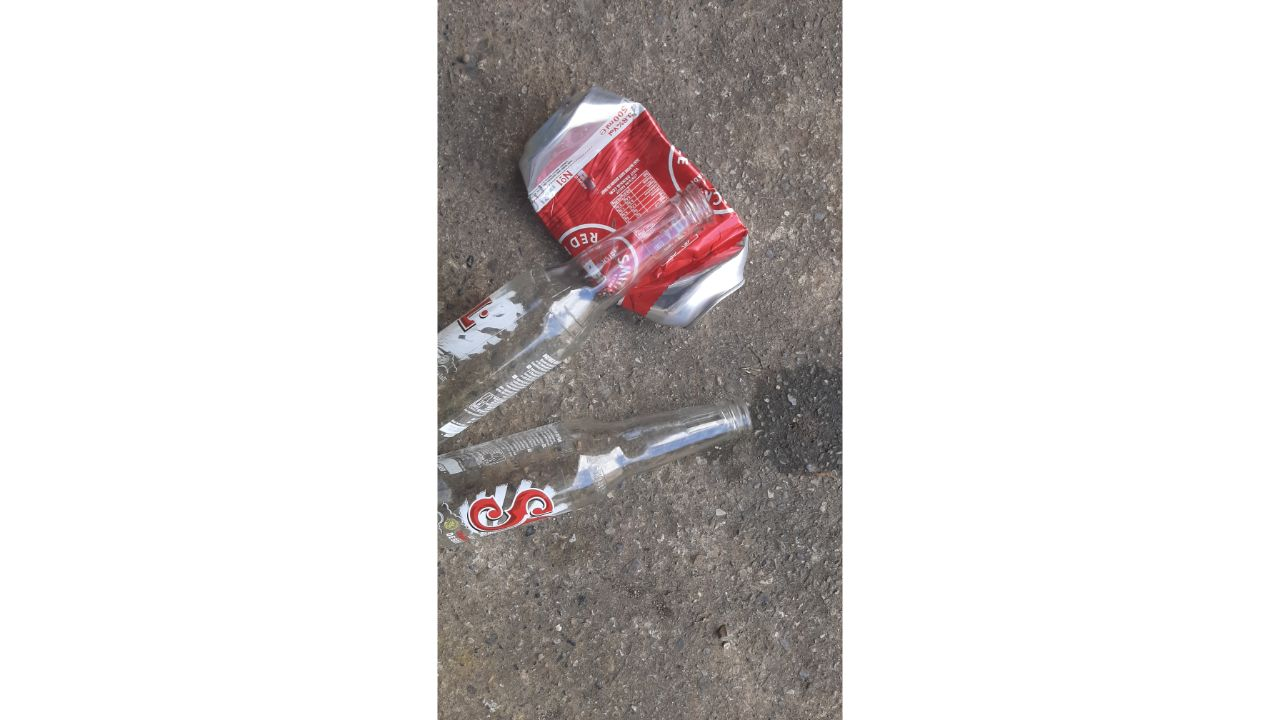Can: (508, 78, 755, 341)
